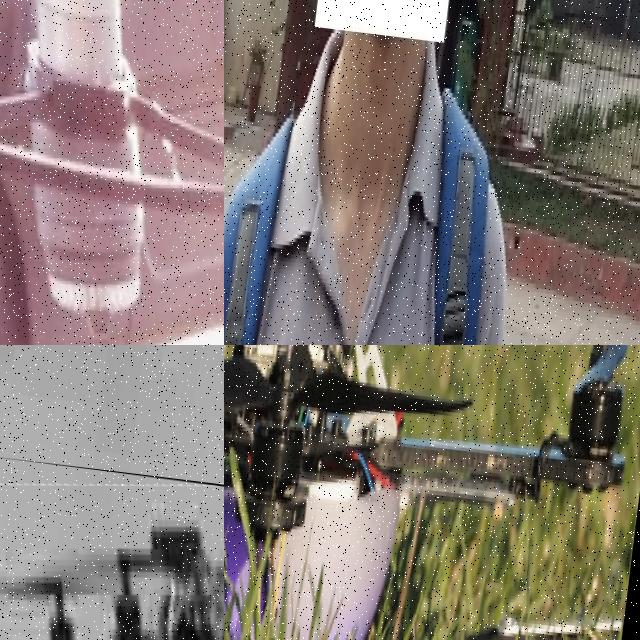drone: (0, 0, 224, 345), (0, 453, 224, 640)
